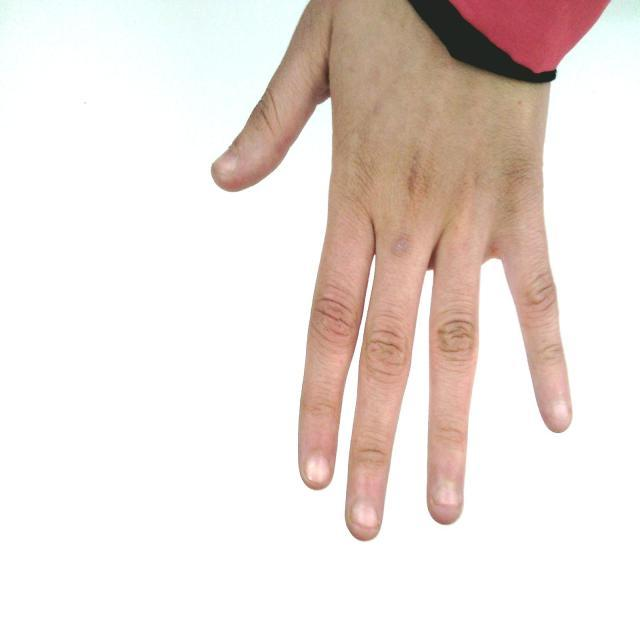Fingernail: (214, 150, 236, 179), (352, 504, 378, 527), (308, 457, 329, 483), (436, 484, 459, 505), (552, 404, 570, 425)
